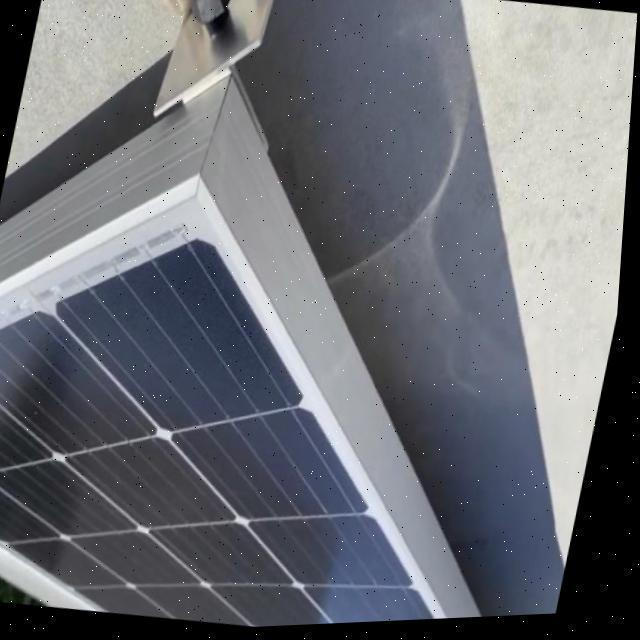Normal Solar Panel: (0, 139, 605, 640)
